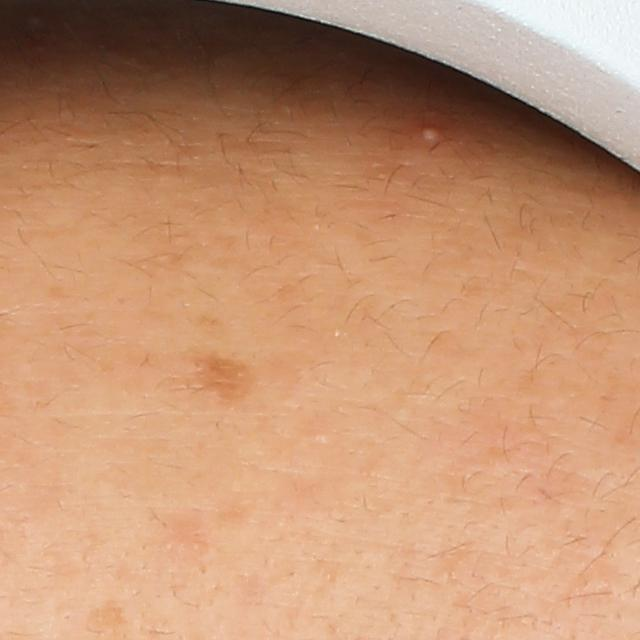pustule: (416, 120, 450, 151)
